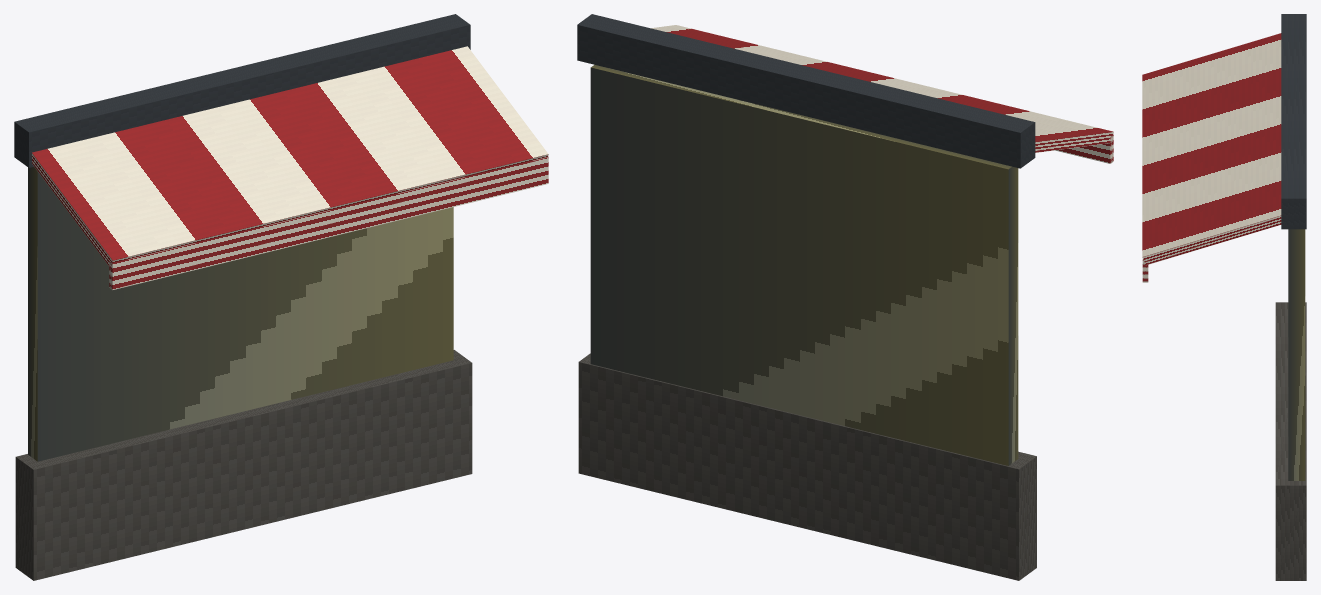
Rendered from shopfront-awning-lod1.glb.
The picture shows the model from 3 angles, left to right: view 1: azimuth 30°, elevation 25°; view 2: azimuth 150°, elevation 25°; view 3: azimuth 270°, elevation 25°; orthographic projection. The views are drawn at different scales.
Parts seen in each view (by area): view 1: shopfront-awning-lod1; view 2: shopfront-awning-lod1; view 3: shopfront-awning-lod1.
Part boxes in pixels (x1,y1,x2,y2): shopfront-awning-lod1: [14, 14, 548, 580]; shopfront-awning-lod1: [577, 14, 1113, 580]; shopfront-awning-lod1: [1142, 14, 1306, 580].
Bounding box in the file's own units: 3.12 × 3.01 × 1.17.
1 material, 1 textured.
